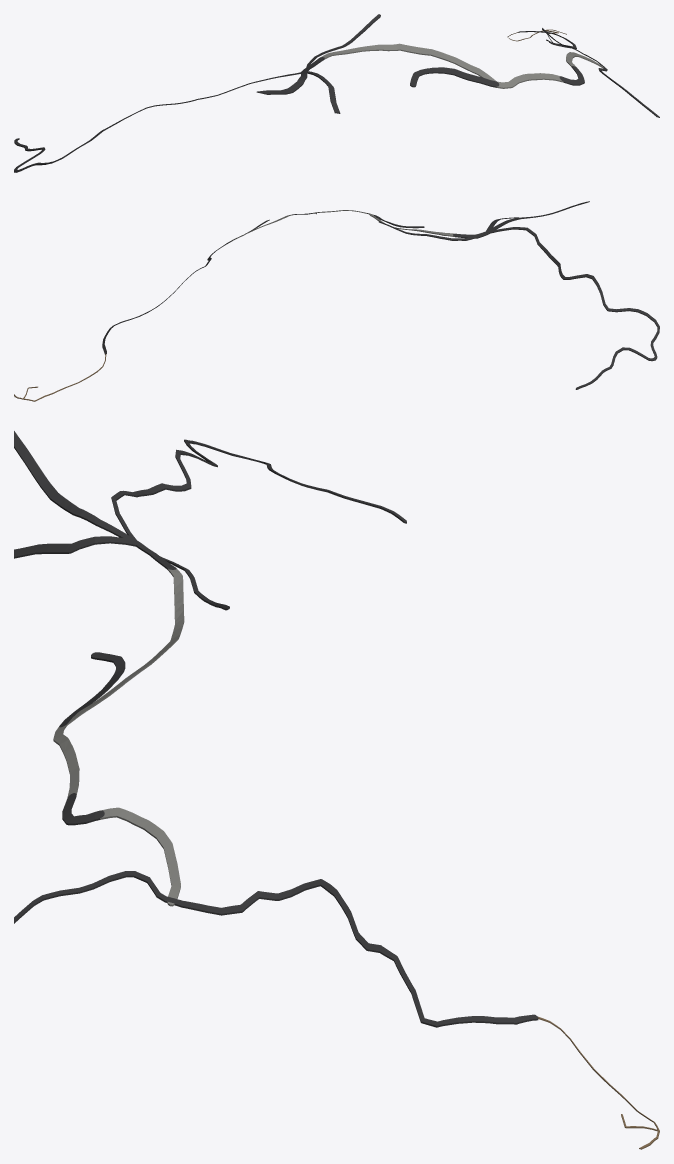
3 renders of one model, top to bottom at view 1: azimuth 30°, elevation 25°; view 2: azimuth 150°, elevation 25°; view 3: azimuth 270°, elevation 25°, orthographic. The views are drawn at different scales.
Size of the model in its own units: 792 by 244 by 427.
